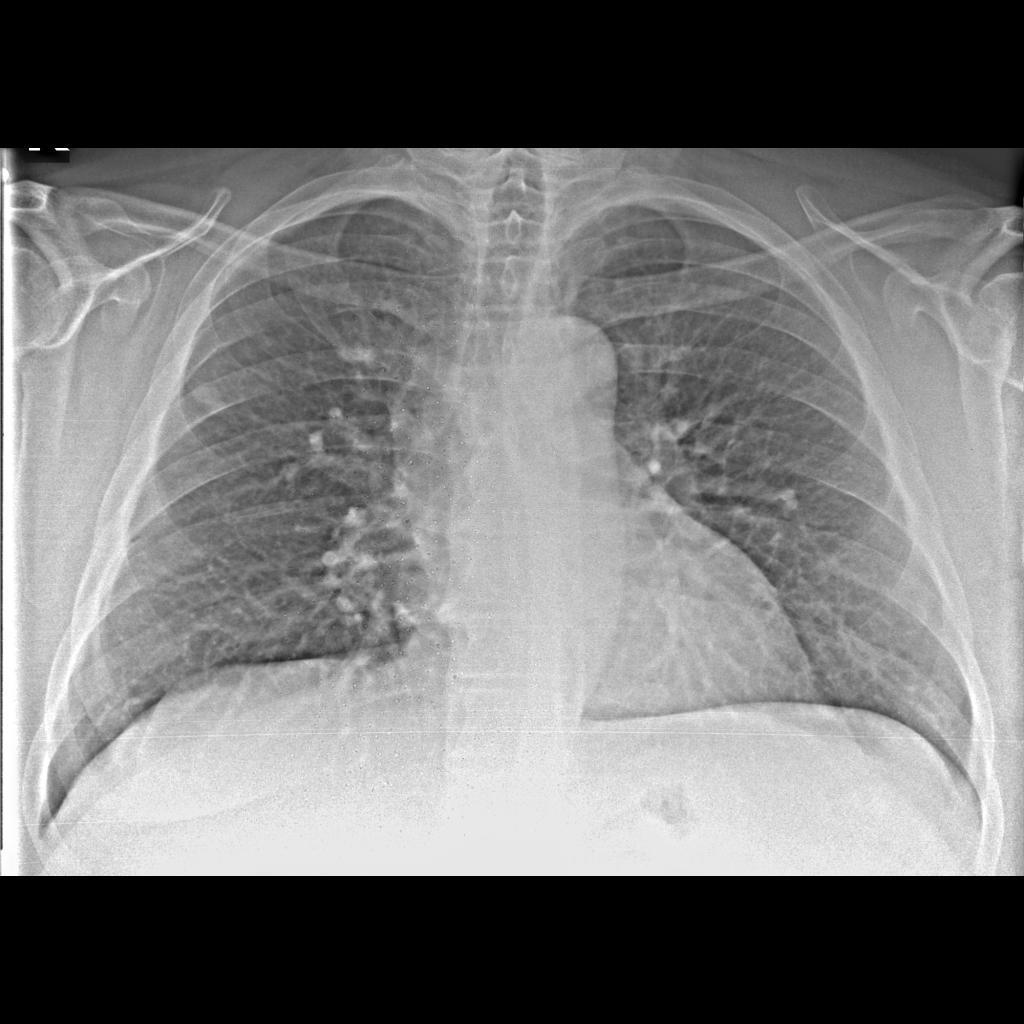Nodule: (191, 377, 232, 421)
